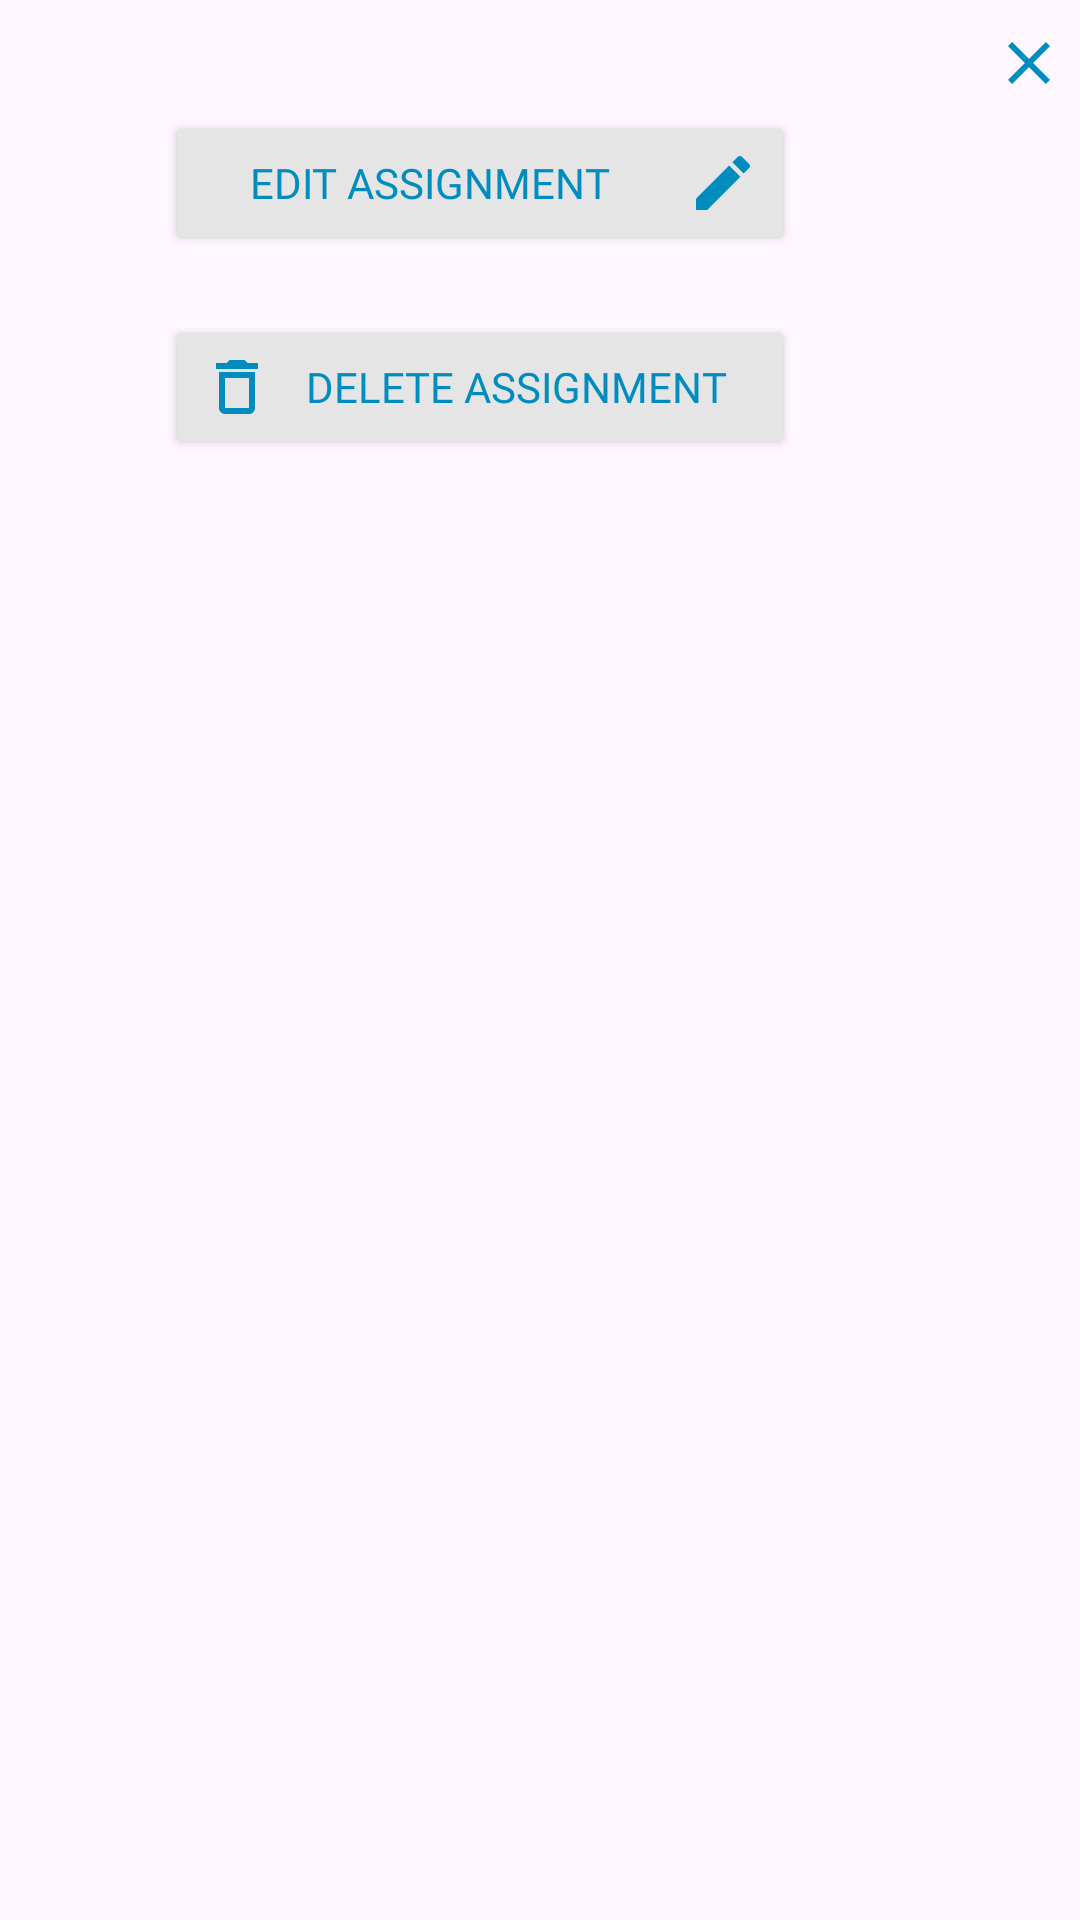

Icon click points for this 1080px×1920px phone screenshot, format (x,y):
clear: (1029,63)
